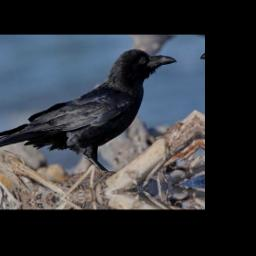Crow: (0, 44, 192, 192)
